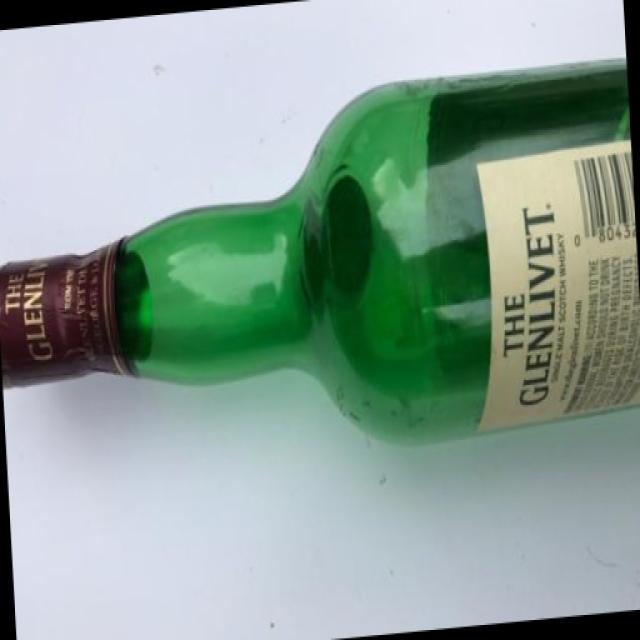vidrio: (34, 51, 640, 490)
